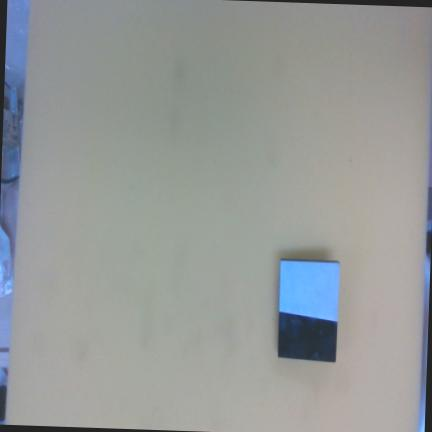tile: (278, 261, 340, 364)
